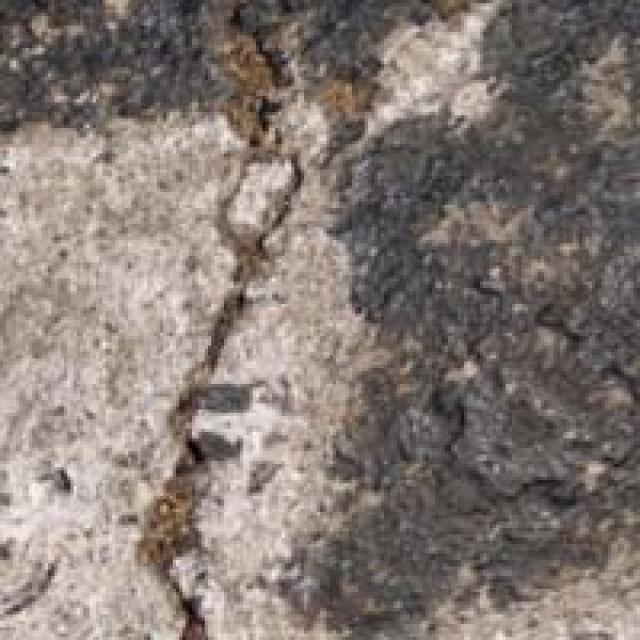Crack: (109, 128, 342, 637)
